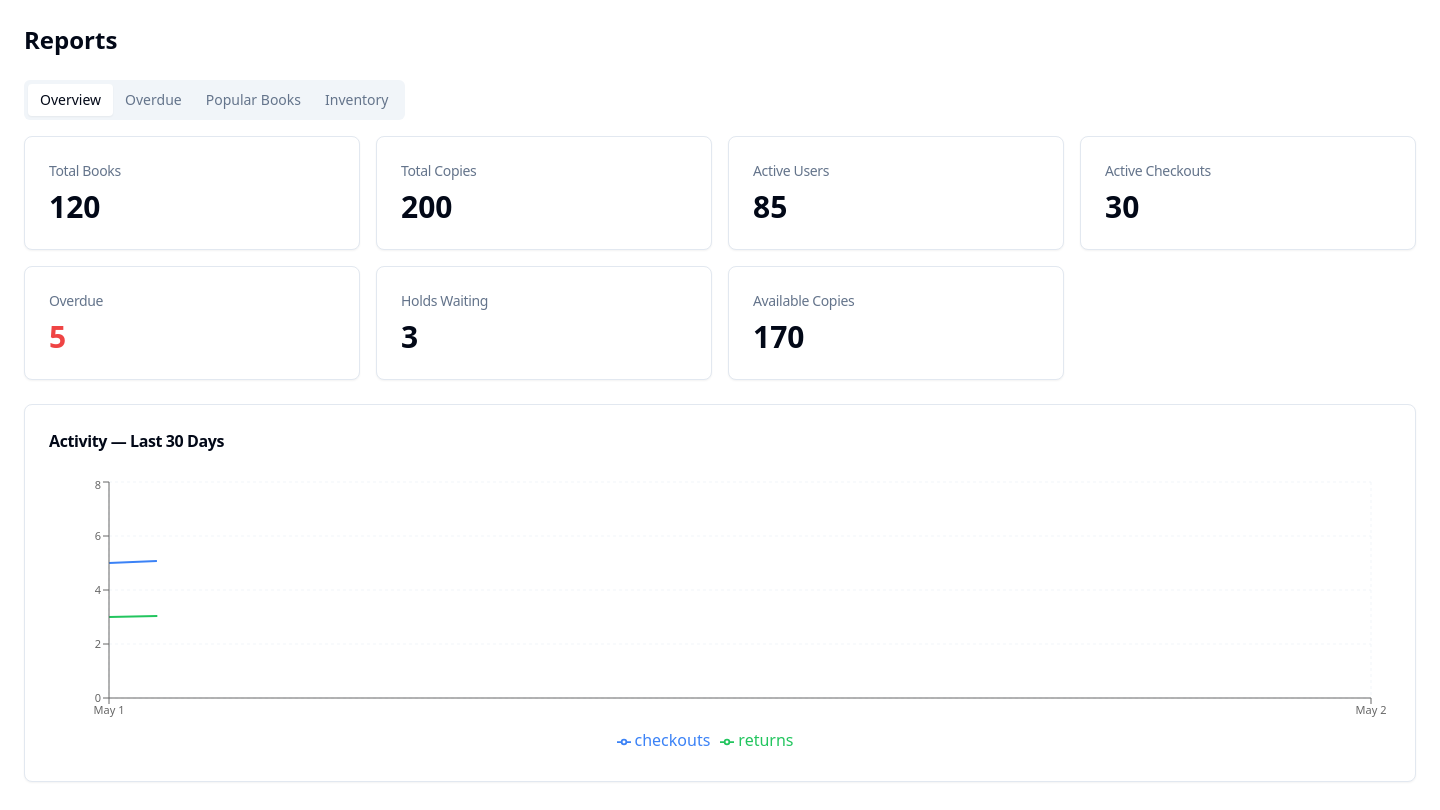
it: ReportsPage › shows inventory data in Inventory tab
Click the tab "Inventory". click: point(357, 100)
box: [313,84,400,116]
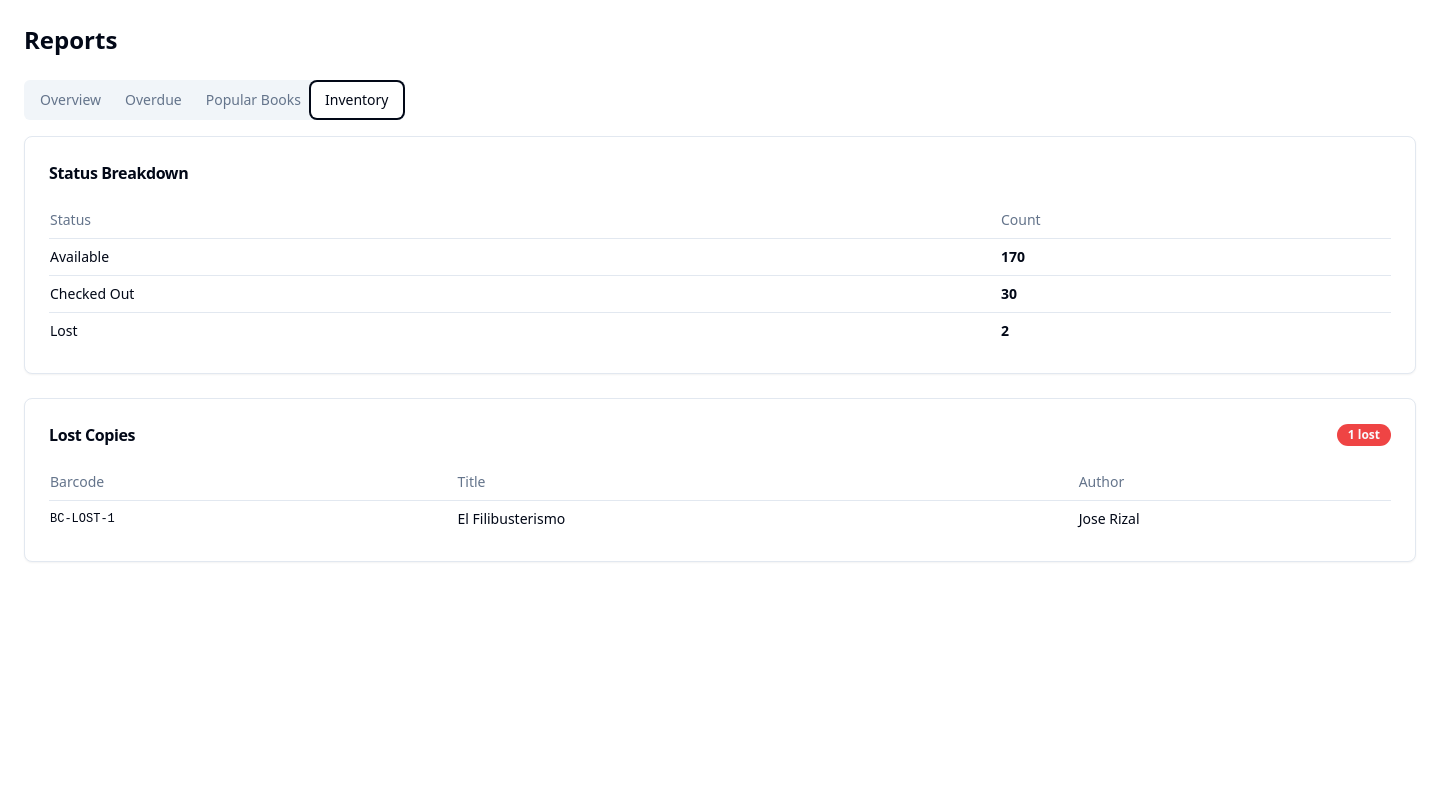
Expected: the text "Status Breakdown" is shown, [49,162,188,184]
Expected: the text "Lost Copies" is shown, [49,423,135,447]
Expected: the text "El Filibusterismo" is shown, [456,500,1078,537]
